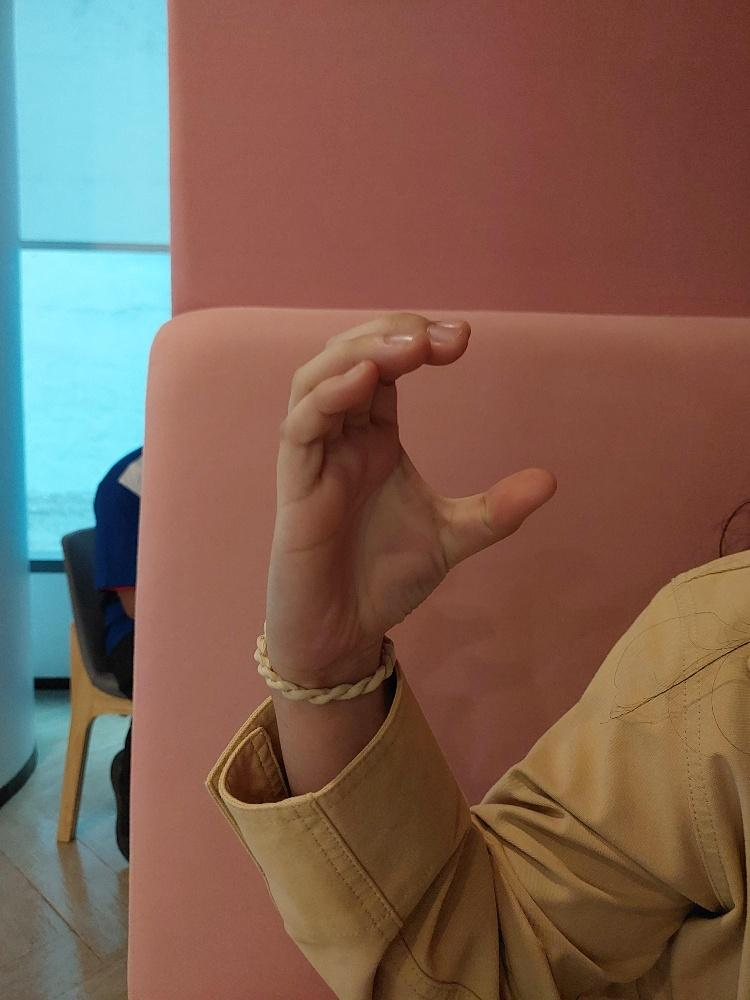c: (255, 300, 564, 669)
